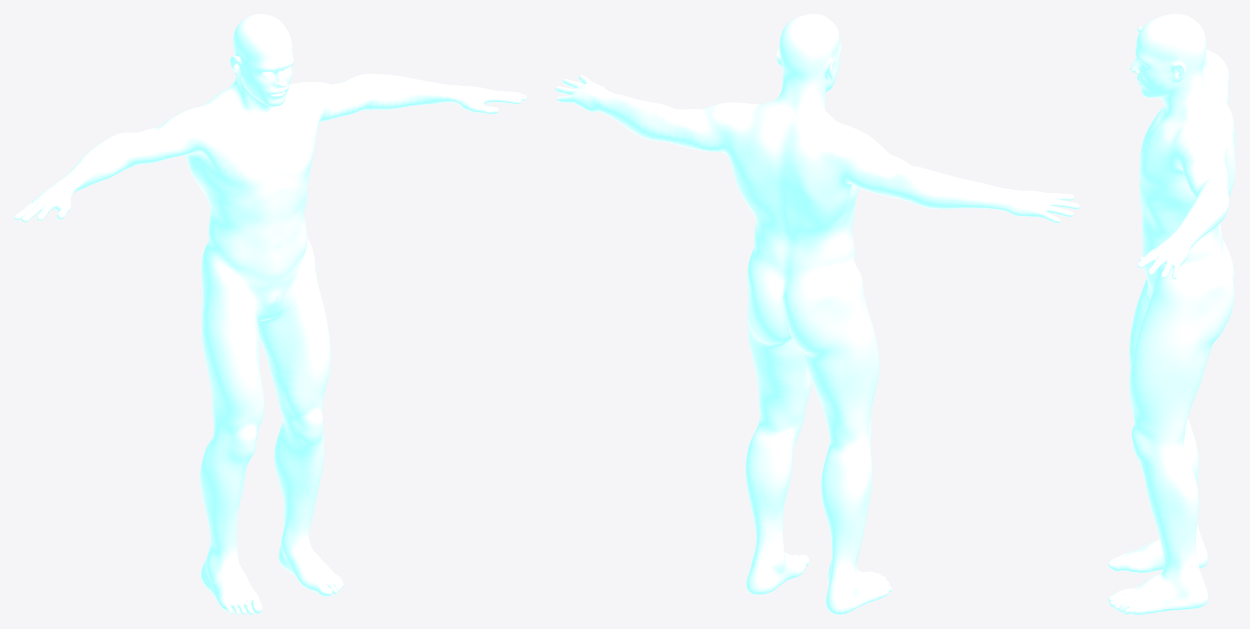
3 views of the same model, side by side, from view 1: azimuth 30°, elevation 25°; view 2: azimuth 150°, elevation 25°; view 3: azimuth 270°, elevation 25° (orthographic). The views are drawn at different scales.
Parts seen in each view (by area): view 1: Body.001; view 2: Body.001; view 3: Body.001.
Boxes of the visible parts, left/top/right/bottom form: Body.001: left=14, top=14, right=526, bottom=614; Body.001: left=555, top=14, right=1079, bottom=614; Body.001: left=1108, top=14, right=1235, bottom=614.
Bounding box in the file's own units: 0.2425 × 0.2592 × 0.0523.
